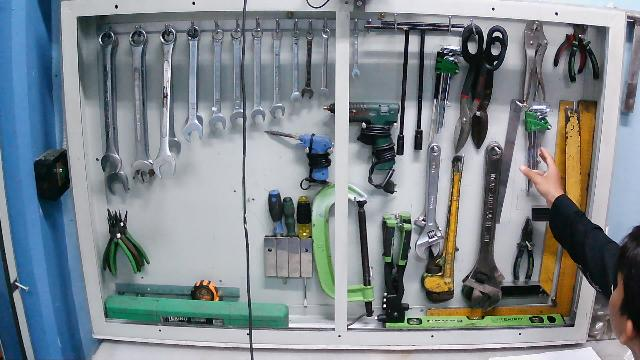kunci_l_bintang: (522, 103, 558, 196)
